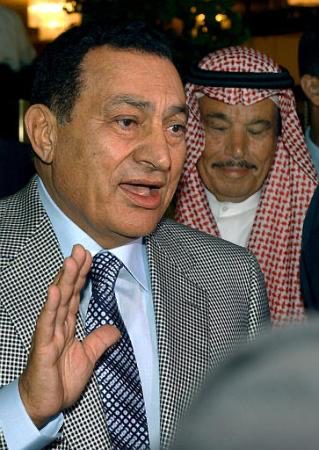Face: (82, 67, 190, 242), (197, 102, 275, 199)
